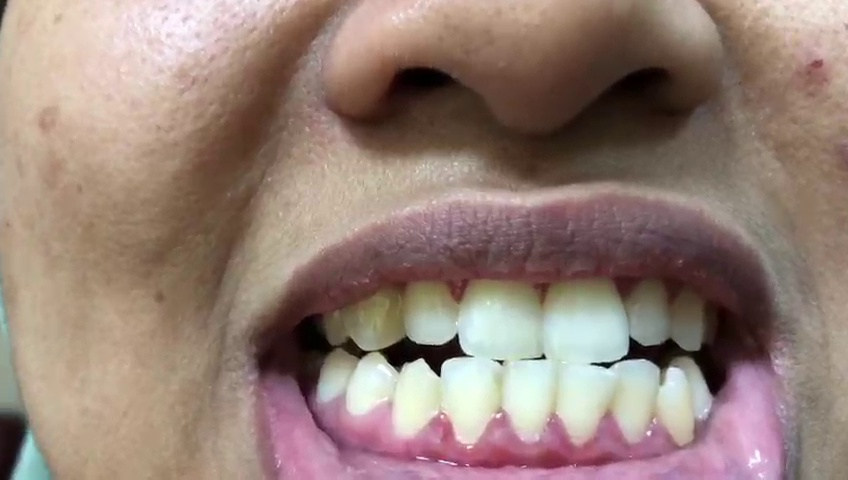1st Premolar: (347, 351, 395, 420), (673, 353, 713, 424)
2nd Premolar: (318, 346, 356, 405)
Canine: (392, 357, 441, 445), (341, 286, 403, 352), (659, 366, 696, 445), (674, 282, 704, 351)
Central Incisor: (458, 266, 546, 362), (544, 272, 629, 361), (554, 360, 613, 452), (501, 357, 557, 443)
Lateral Incisor: (441, 358, 500, 451), (610, 360, 660, 444), (403, 276, 459, 348), (626, 276, 672, 348)
